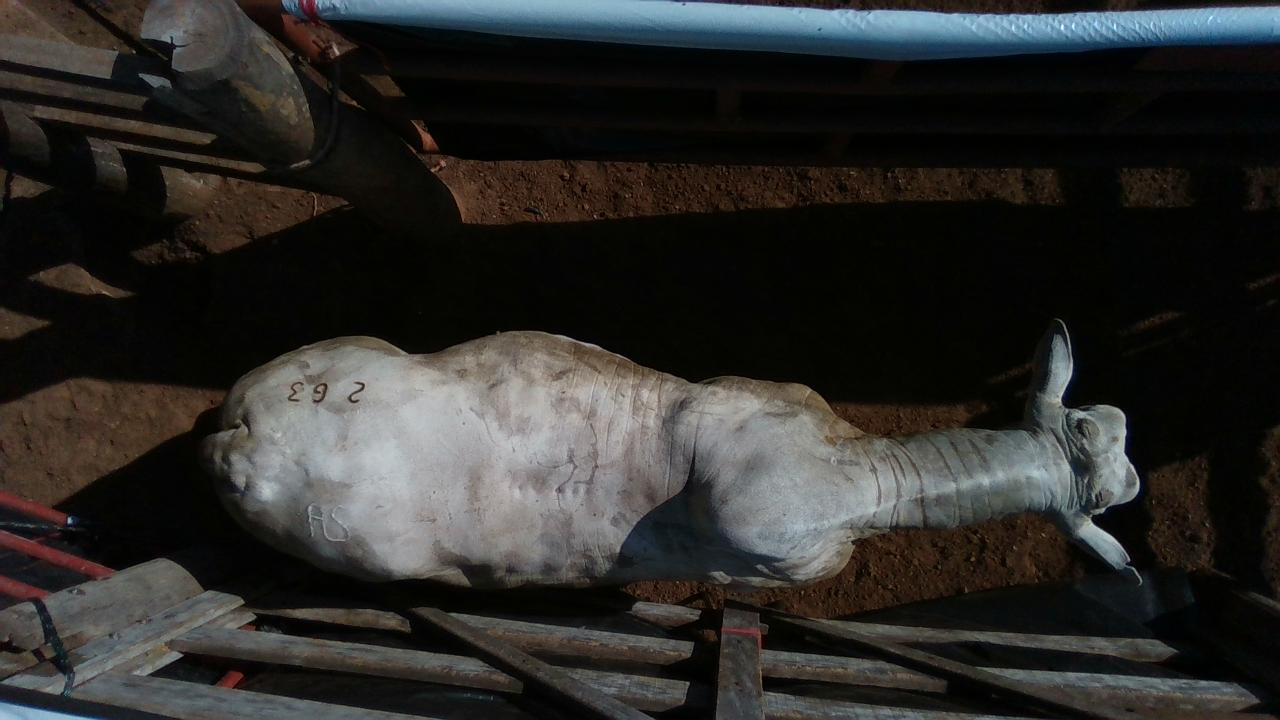cattle: (196, 316, 1142, 594)
